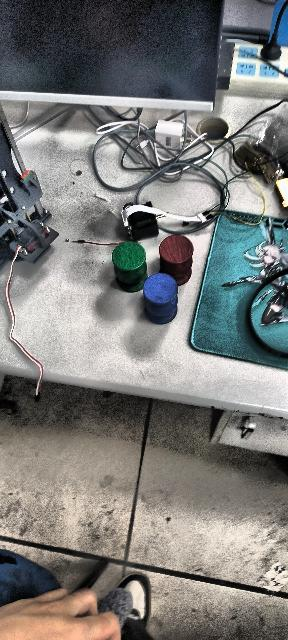blue: (142, 272, 178, 324)
green: (112, 242, 147, 294)
red: (157, 234, 194, 286)
